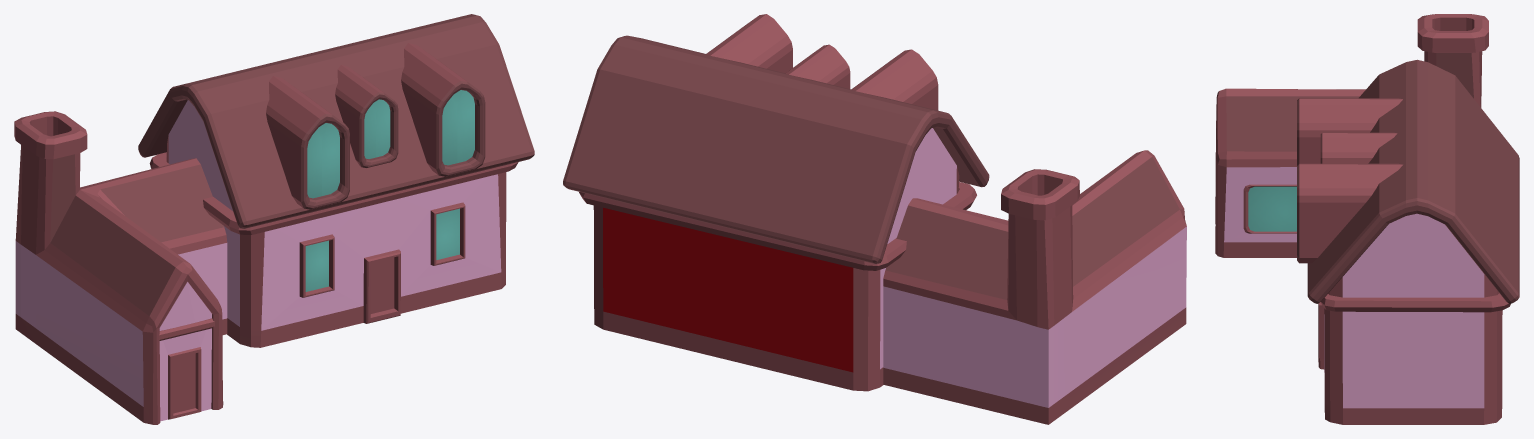
File: SM_House_31.fbx
3 views of the same model, side by side, from view 1: azimuth 30°, elevation 25°; view 2: azimuth 150°, elevation 25°; view 3: azimuth 270°, elevation 25° (orthographic). The views are drawn at different scales.
Parts seen in each view (by area): view 1: SM_House_31; view 2: SM_House_31; view 3: SM_House_31.
Boxes of the visible parts, x1,y1,x2,y2 form: SM_House_31: [14, 14, 534, 424]; SM_House_31: [563, 14, 1186, 424]; SM_House_31: [1215, 14, 1519, 424].
Size of the model in its own units: 1528 by 782 by 928.
